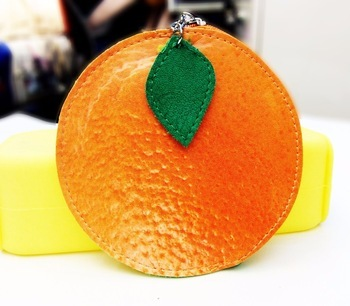orange: (51, 25, 303, 284)
